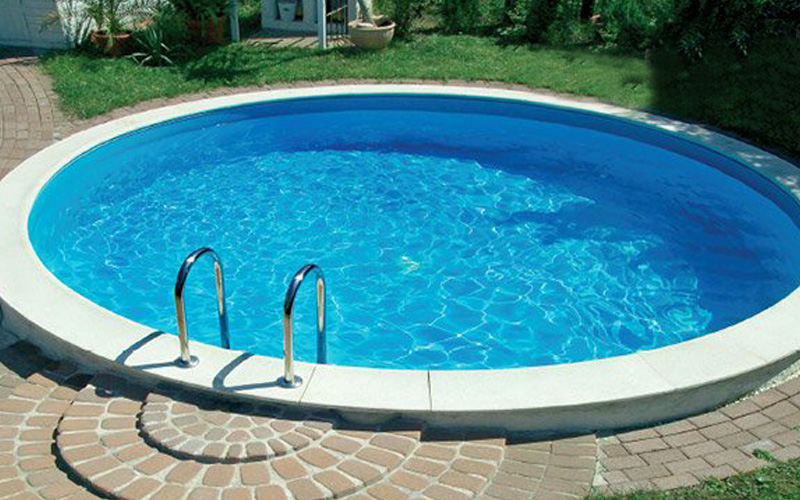havuz: (29, 88, 800, 387)
